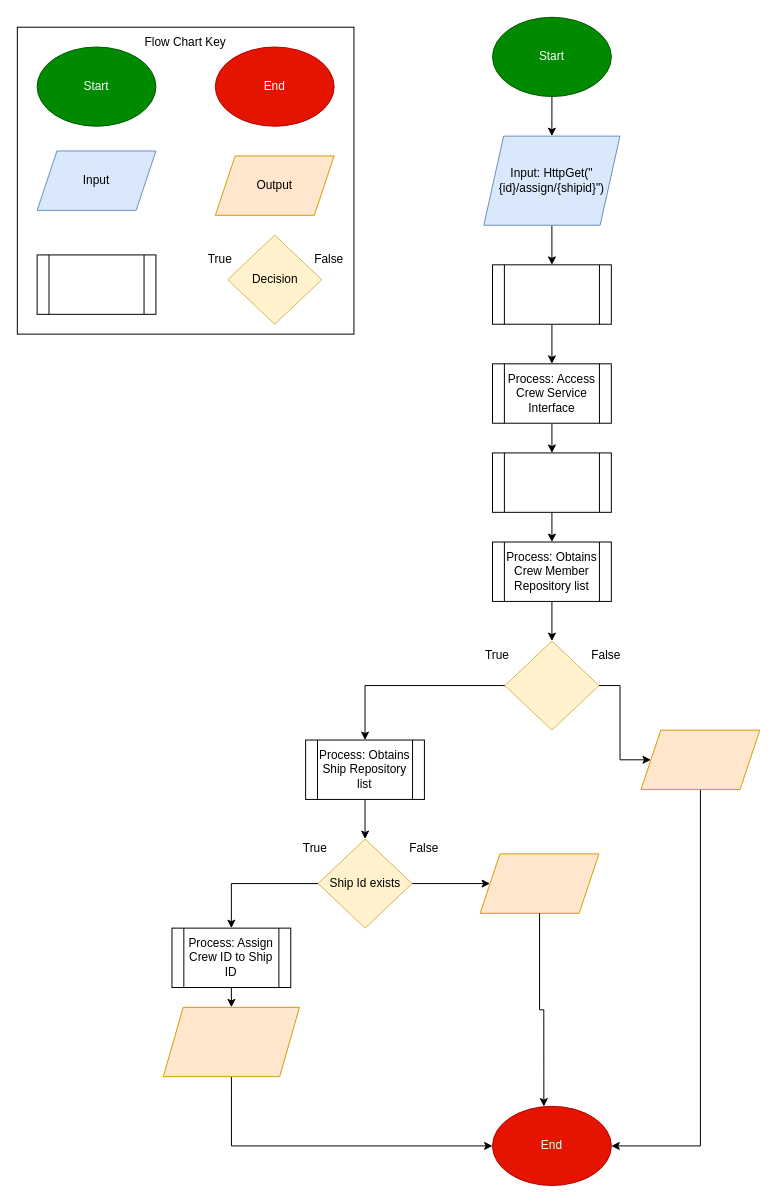
Image size: 777x1203. Some labels were removed from this diagram. Here are the shapes that lost their labels. From the top down, the centre of each, then its label:
At pixel 96 284: "Process".
At pixel 551 294: "Process: Reaches CrewController".
At pixel 551 482: "Process: Access Crew Service".
At pixel 551 685: "Crew Id exists".
At pixel 700 759: "Output: Crew Member ID doesn't exist".
At pixel 539 883: "Output: Ship ID doesn't exist".
At pixel 230 1041: "Output: Crew ID has been assigned to Ship ID".
